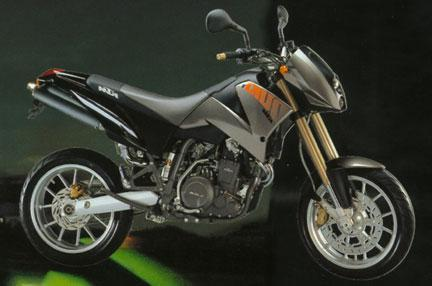motorcycle: (8, 1, 432, 286)
